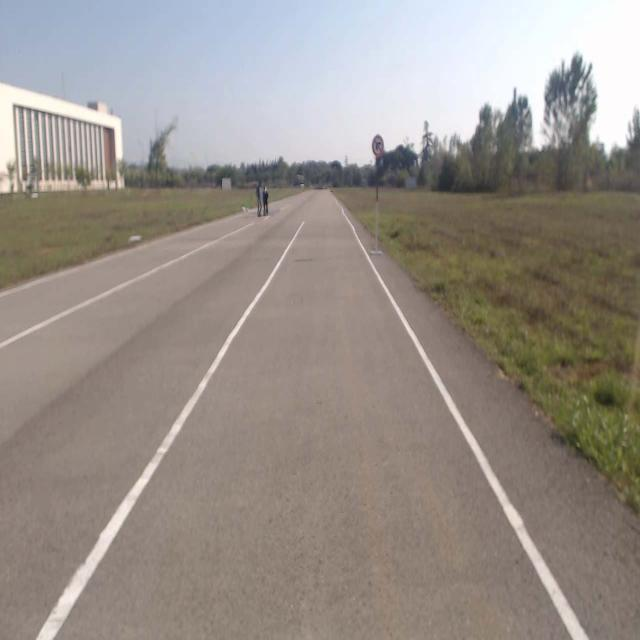sagadonulmez: (372, 135, 383, 156)
